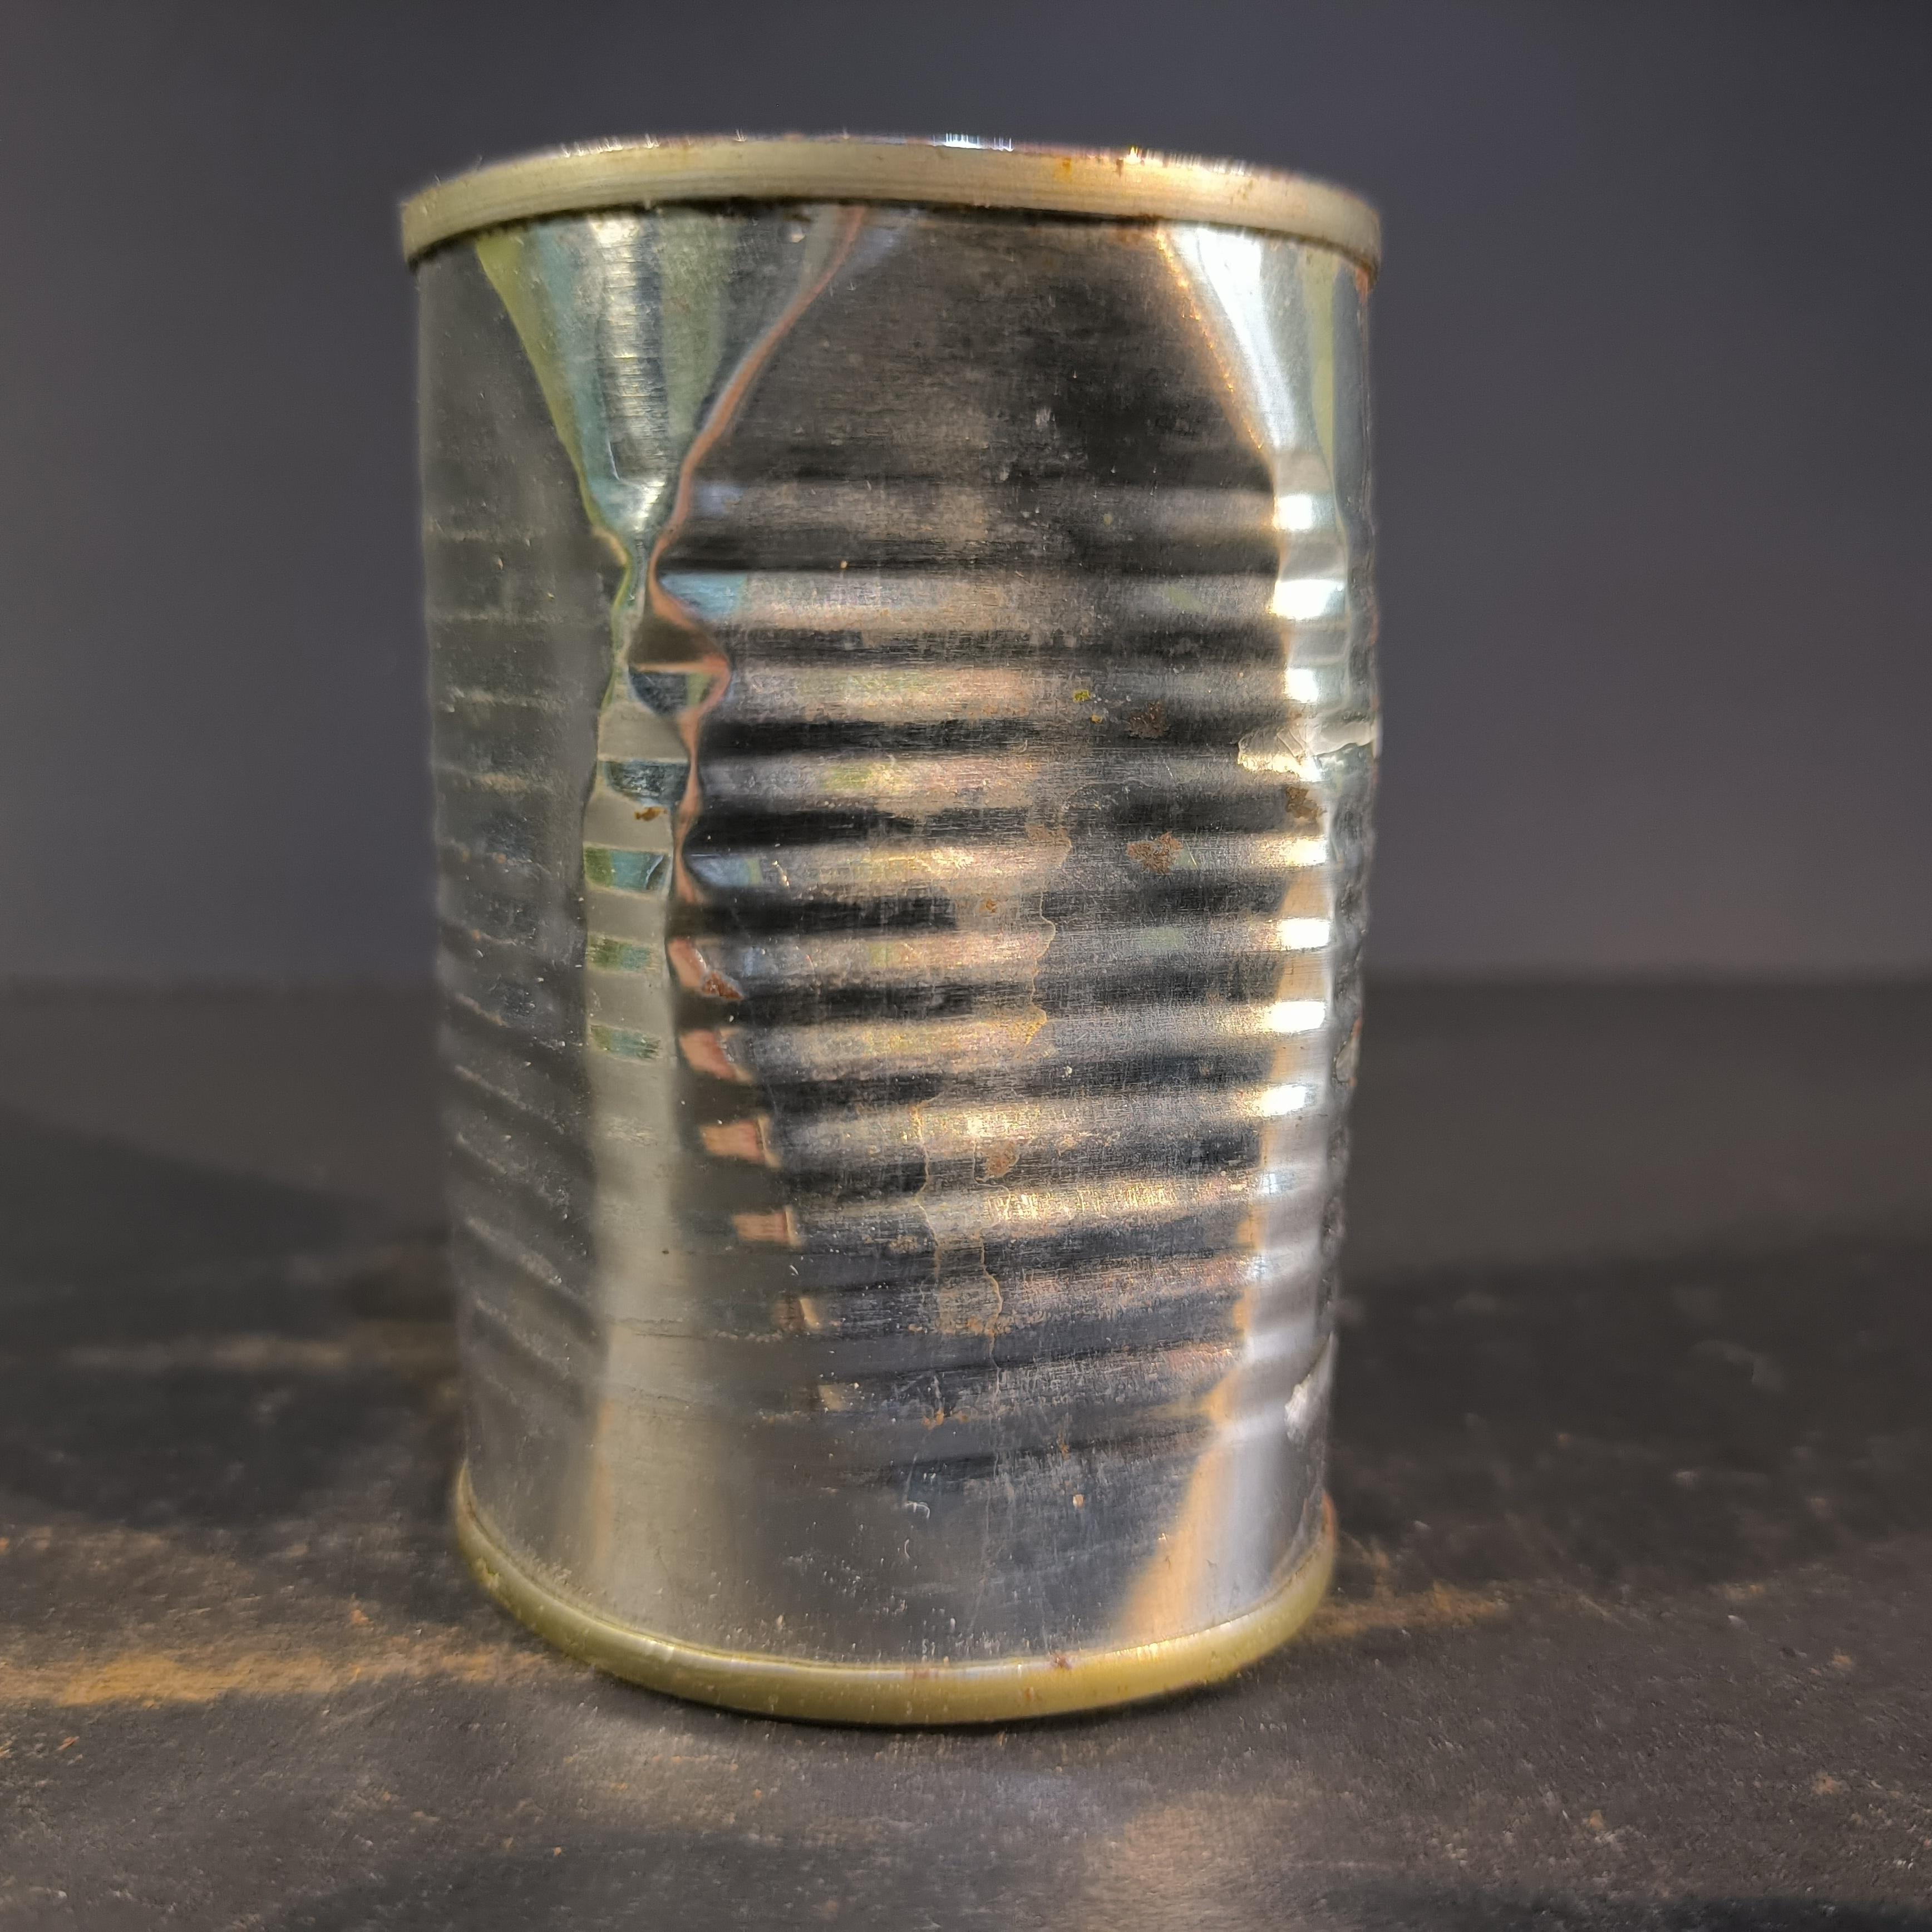Dented: (379, 87, 1424, 1721)
